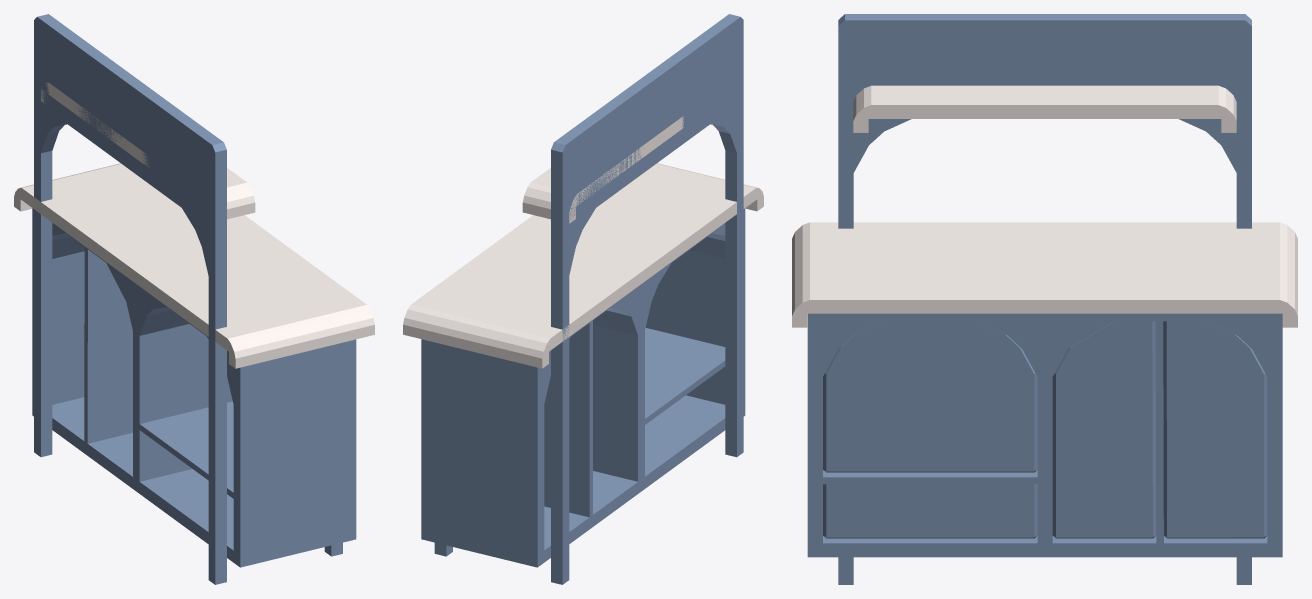
The model's file is Furn7_playzone_left_color1_joined.fbx.
3 renders of one model, left to right at view 1: azimuth 30°, elevation 25°; view 2: azimuth 150°, elevation 25°; view 3: azimuth 270°, elevation 25°, orthographic. The views are drawn at different scales.
Visible parts, largest first — view 1: кухонька; view 2: кухонька; view 3: кухонька.
Part boxes in pixels (box(x1,y1,x2,y2)): кухонька: box(14, 14, 374, 584); кухонька: box(403, 14, 763, 584); кухонька: box(792, 14, 1297, 584).
Bounding box in the file's own units: 96 × 288 × 264.
